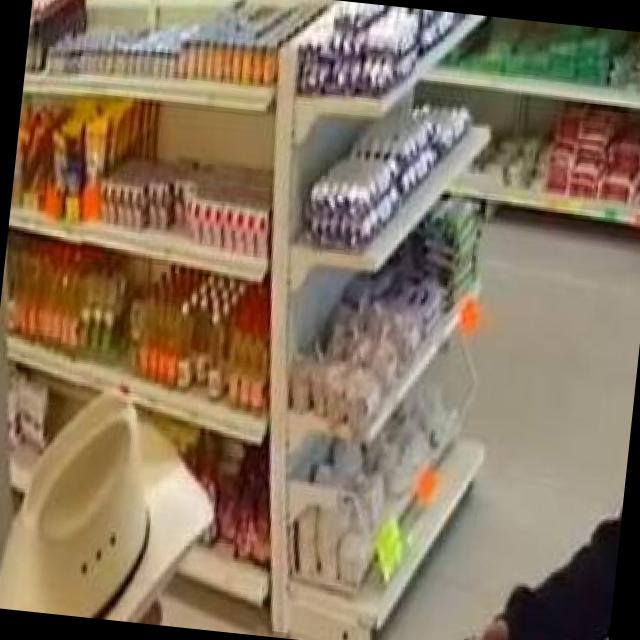Guns: (412, 618, 525, 640)
